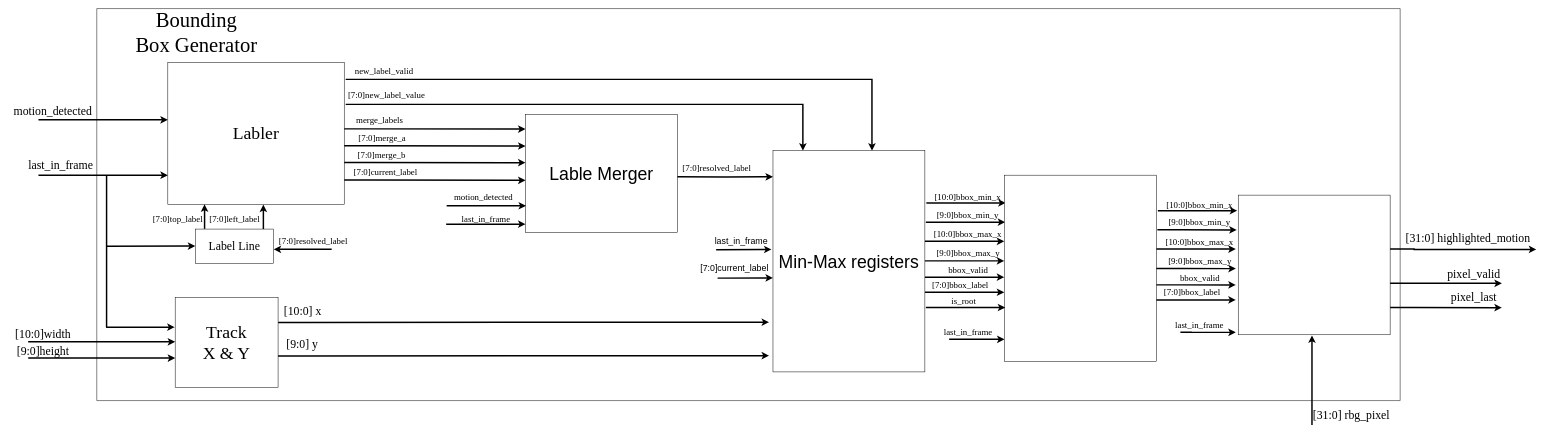
Image size: 1549x438. Some labels were removed from this diagram. The box of each missing label's shape, as (x1, y1, x2, y2) in pixels:
Highlight Motion: (1238, 195, 1390, 335)
Merge Boxes: (1004, 175, 1156, 361)
